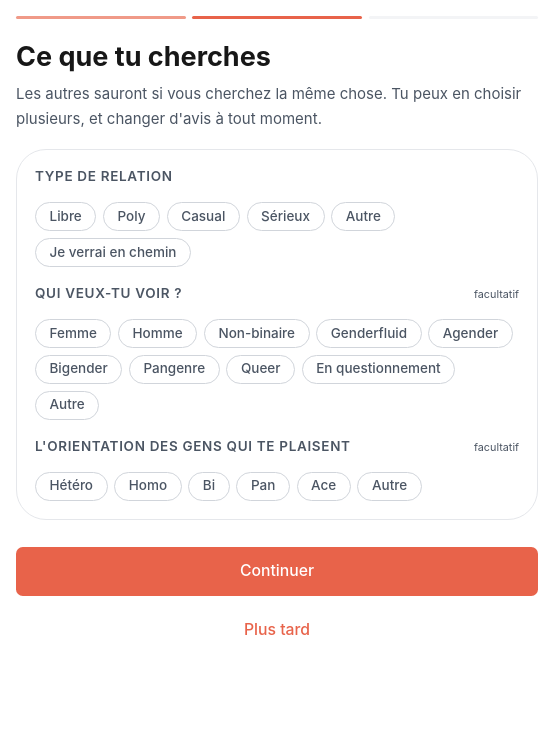
Test: <StepSeeking /> — réciprocité (#519) › l'erreur de consentement se montre dès le choix sensible sans case (#518)
Click the button "Bi" at (209, 486), box [188,472,230,501]
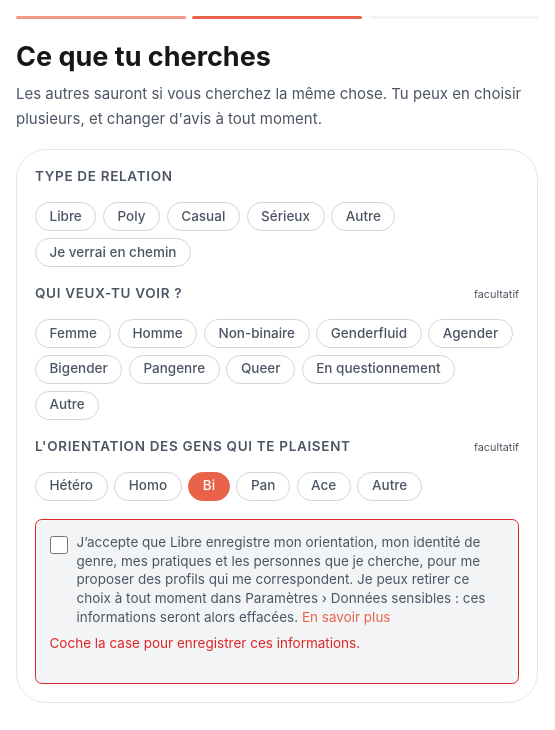
Expected: the text "Coche la case pour enregistrer ces informations." is shown, [50,635,360,651]
